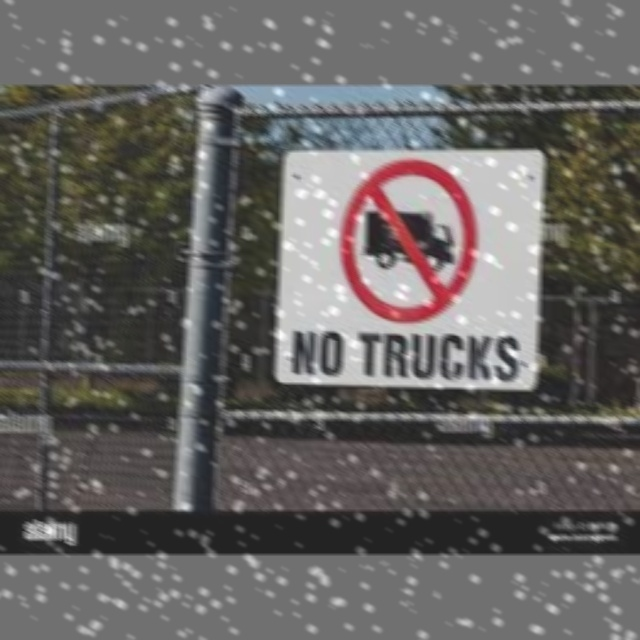Truck_Prohibited: (334, 155, 483, 327)
